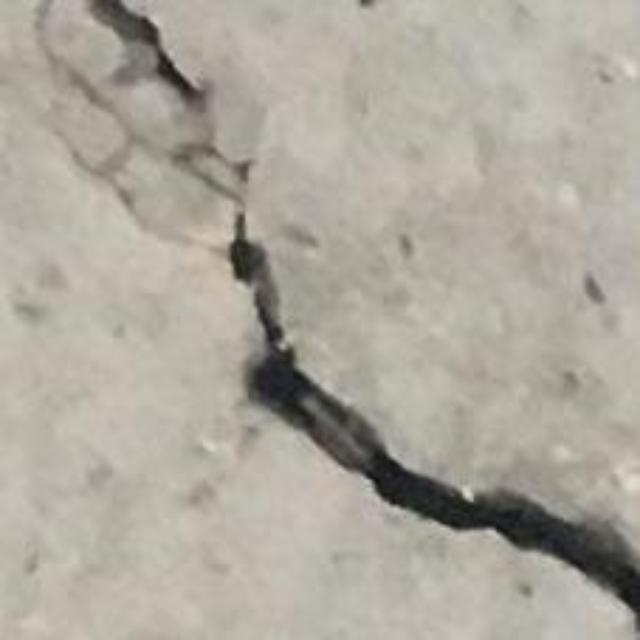crack: (34, 0, 639, 625)
